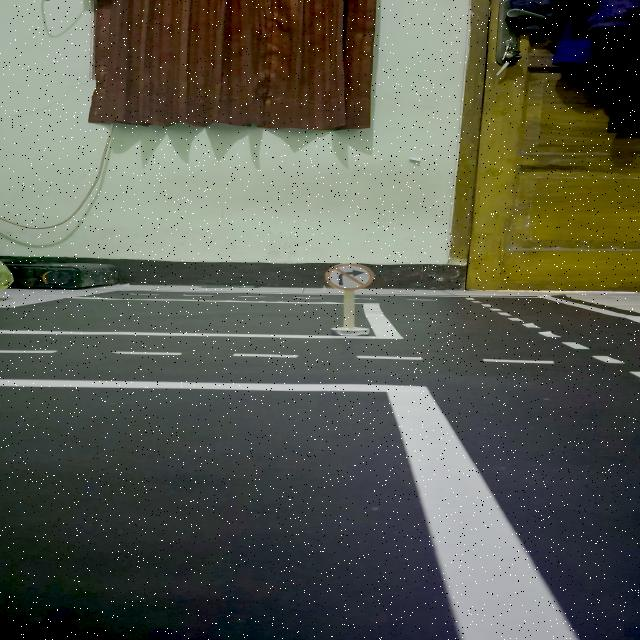Dilarang Belok Kanan: (324, 264, 374, 290)
